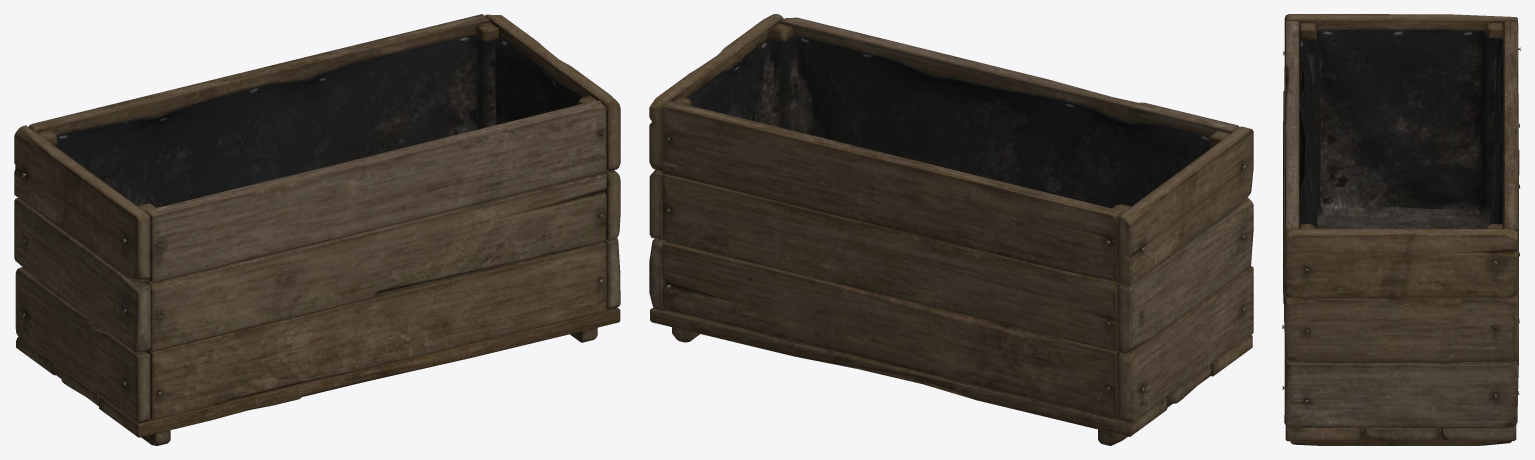
File: planter_box_01.glb
3 views of the same model, side by side, from view 1: azimuth 30°, elevation 25°; view 2: azimuth 150°, elevation 25°; view 3: azimuth 270°, elevation 25° (orthographic). The views are drawn at different scales.
Parts seen in each view (by area): view 1: planter_box_01; view 2: planter_box_01; view 3: planter_box_01.
Boxes of the visible parts, x1=… form: planter_box_01: x1=14, y1=14, x2=620, y2=445; planter_box_01: x1=649, y1=14, x2=1253, y2=445; planter_box_01: x1=1282, y1=14, x2=1520, y2=445.
Bounding box in the file's own units: 0.9126 × 0.4249 × 0.4137.
Materials: 1 (1 with a texture image).
